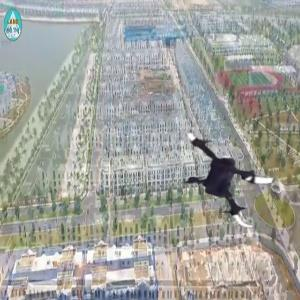drone: (172, 116, 292, 236)
